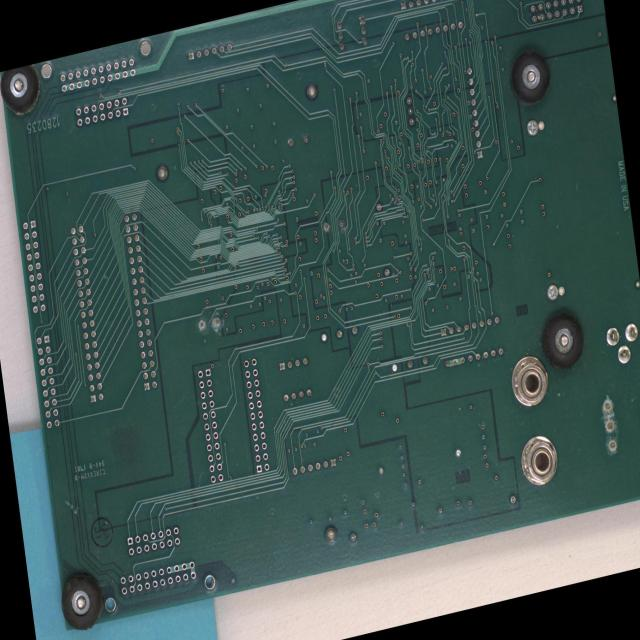Connector: (194, 365, 226, 485), (242, 355, 272, 476), (117, 556, 198, 600), (57, 54, 138, 96), (516, 431, 562, 490), (508, 352, 552, 412), (21, 217, 47, 317), (35, 333, 61, 431), (124, 522, 182, 559), (73, 94, 130, 130)
Pins: (121, 209, 161, 394), (67, 224, 106, 404), (438, 311, 507, 373), (396, 0, 467, 49), (599, 385, 640, 459), (463, 63, 488, 163), (602, 314, 640, 374), (276, 354, 314, 404), (526, 0, 586, 28), (373, 199, 392, 279), (333, 13, 370, 53), (291, 455, 338, 480), (318, 322, 362, 347), (186, 41, 234, 62), (390, 354, 429, 374), (321, 214, 348, 237), (285, 130, 311, 152), (197, 314, 222, 334), (404, 93, 416, 130), (346, 528, 358, 545), (507, 490, 518, 507)
